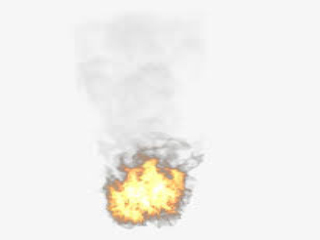fire: (102, 141, 201, 226)
